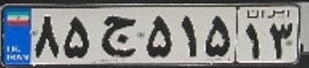character: (93, 12, 139, 60), (202, 8, 232, 62), (142, 10, 174, 60), (61, 13, 92, 60), (33, 13, 61, 60), (267, 18, 296, 62), (176, 9, 201, 58), (244, 21, 264, 62)
